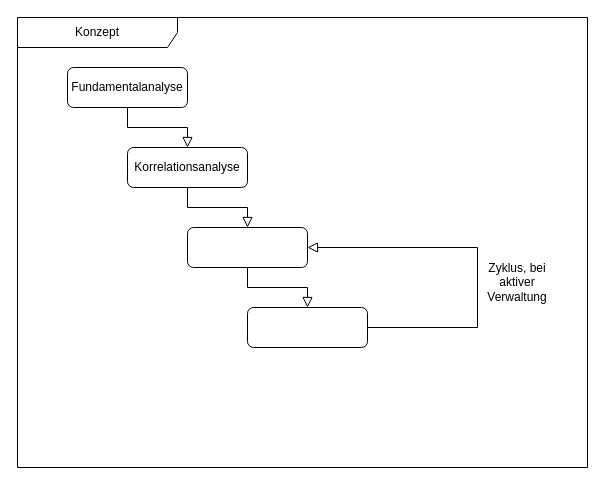
This 605x485 diagram has some shape labels left out. The shapes that lost their labels are listed below. From the top down, each one's centre as x and y in pixels, then its label:
At (x=247, y=247): "Renditevorhersage".
At (x=307, y=327): "Portfoliooptimierung mit dem Mean-Varianz-Modell".
